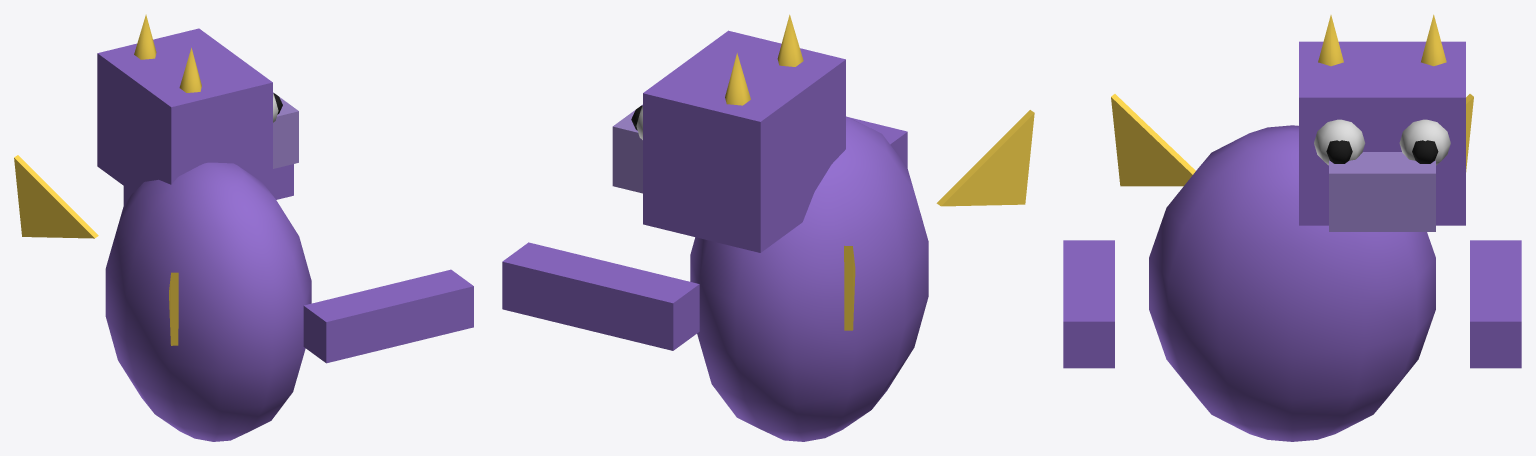
File: back_plush_dragon.glb
3 views of the same model, side by side, from view 1: azimuth 30°, elevation 25°; view 2: azimuth 150°, elevation 25°; view 3: azimuth 270°, elevation 25° (orthographic). The views are drawn at different scales.
Parts seen in each view (by area): view 1: Back; view 2: Back; view 3: Back.
Boxes of the visible parts, x1,y1,x2,y2 form: Back: (14,14,473,441); Back: (502,14,1034,441); Back: (1063,14,1521,441).
Bounding box in the file's own units: 0.5122 × 0.6516 × 0.642.
